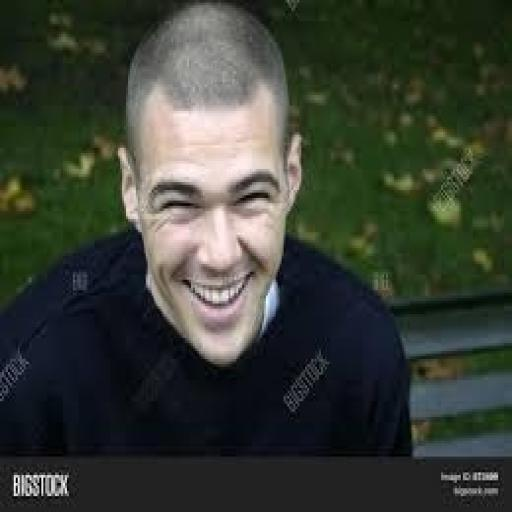laughing: (0, 0, 421, 456)
